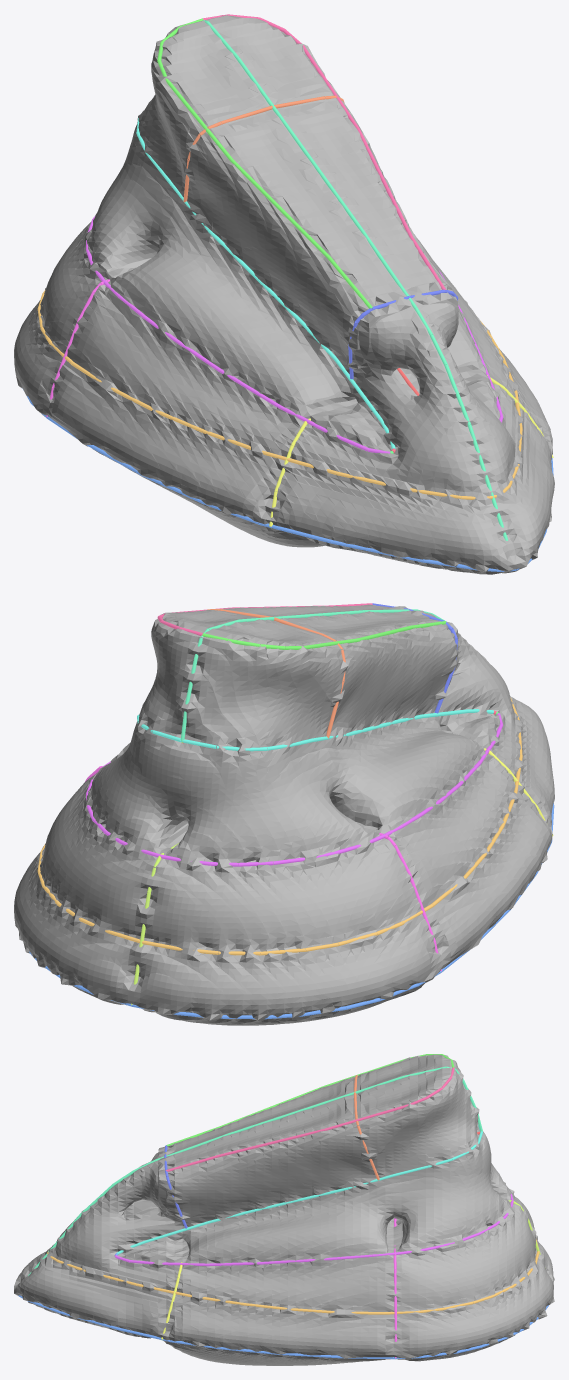
The model's file is t2f_iron.gltf.
3 renders of one model, top to bottom at view 1: azimuth 30°, elevation 25°; view 2: azimuth 150°, elevation 25°; view 3: azimuth 270°, elevation 25°, orthographic. The views are drawn at different scales.
Bounding box in the file's own units: 0.4834 × 0.4462 × 0.8086.
